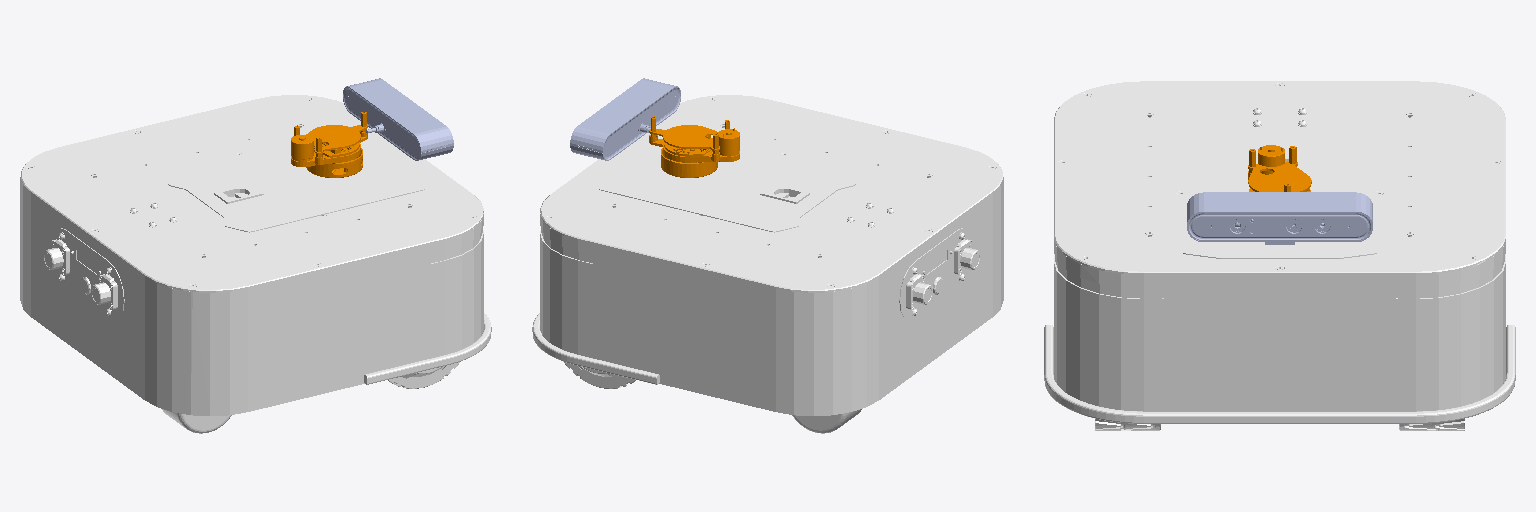
URDF robot description (tracer_mini):
<?xml version="1.0" encoding="utf-8"?>
<!-- This URDF was automatically created by SolidWorks to URDF Exporter! Originally created by [author] ([email redacted]) 
     Commit Version: 1.6.0-4-g7f85cfe  Build Version: 1.6.7995.38578
     For more information, please see http://wiki.ros.org/sw_urdf_exporter -->
<robot
  name="tracer_mini">
  <link
    name="base_link">
    <inertial>
      <origin
        xyz="0.0159871268556407 1.58872275333177E-05 -0.0309422377248268"
        rpy="0 0 0" />
      <mass
        value="24.3948952632956" />
      <inertia
        ixx="0.330322675681357"
        ixy="-8.93178579768822E-06"
        ixz="0.010552102579657"
        iyy="0.327495768676369"
        iyz="1.4143030767649E-06"
        izz="0.614434971559817" />
    </inertial>
    <visual>
      <origin
        xyz="0 0 0"
        rpy="0 0 0" />
      <geometry>
        <mesh
          filename="package://tracer_mini/meshes/base_link.STL" />
      </geometry>
      <material
        name="">
        <color
          rgba="1 1 1 1" />
      </material>
    </visual>
    <collision>
      <origin
        xyz="0 0 0"
        rpy="0 0 0" />
      <geometry>
        <mesh
          filename="package://tracer_mini/meshes/base_link.STL" />
      </geometry>
    </collision>
  </link>
  <link
    name="fl_Link">
    <inertial>
      <origin
        xyz="-0.11068 0.066655 0.10537"
        rpy="0 0 0" />
      <mass
        value="17.416" />
      <inertia
        ixx="0.24331"
        ixy="0.010574"
        ixz="8.9424E-06"
        iyy="0.43808"
        iyz="-1.4143E-06"
        izz="0.2374" />
    </inertial>
    <visual>
      <origin
        xyz="0 0 0"
        rpy="0 0 0" />
      <geometry>
        <mesh
          filename="package://tracer_mini/meshes/fl_Link.STL" />
      </geometry>
      <material
        name="">
        <color
          rgba="1 1 1 1" />
      </material>
    </visual>
    <collision>
      <origin
        xyz="0 0 0"
        rpy="0 0 0" />
      <geometry>
        <mesh
          filename="package://tracer_mini/meshes/fl_Link.STL" />
      </geometry>
    </collision>
  </link>
  <joint
    name="fl_joint"
    type="continuous">
    <origin
      xyz="0.12914 0.1054 -0.1275"
      rpy="1.5708 0 0" />
    <parent
      link="base_link" />
    <child
      link="fl_Link" />
    <axis
      xyz="0 0 1" />
  </joint>
  <link
    name="fr_Link">
    <inertial>
      <origin
        xyz="-0.11068 0.066655 -0.10543"
        rpy="0 0 0" />
      <mass
        value="17.416" />
      <inertia
        ixx="0.24331"
        ixy="0.010574"
        ixz="8.9424E-06"
        iyy="0.43808"
        iyz="-1.4143E-06"
        izz="0.2374" />
    </inertial>
    <visual>
      <origin
        xyz="0 0 0"
        rpy="0 0 0" />
      <geometry>
        <mesh
          filename="package://tracer_mini/meshes/fr_Link.STL" />
      </geometry>
      <material
        name="">
        <color
          rgba="1 1 1 1" />
      </material>
    </visual>
    <collision>
      <origin
        xyz="0 0 0"
        rpy="0 0 0" />
      <geometry>
        <mesh
          filename="package://tracer_mini/meshes/fr_Link.STL" />
      </geometry>
    </collision>
  </link>
  <joint
    name="fr_joint"
    type="continuous">
    <origin
      xyz="0.12914 -0.1054 -0.1275"
      rpy="1.5708 0 0" />
    <parent
      link="base_link" />
    <child
      link="fr_Link" />
    <axis
      xyz="0 0 -1" />
  </joint>
  <link
    name="rr_Link">
    <inertial>
      <origin
        xyz="0.14232 0.089655 -0.12503"
        rpy="0 0 0" />
      <mass
        value="17.416" />
      <inertia
        ixx="0.24331"
        ixy="0.010574"
        ixz="8.9424E-06"
        iyy="0.43808"
        iyz="-1.4143E-06"
        izz="0.2374" />
    </inertial>
    <visual>
      <origin
        xyz="0 0 0"
        rpy="0 0 0" />
      <geometry>
        <mesh
          filename="package://tracer_mini/meshes/rr_Link.STL" />
      </geometry>
      <material
        name="">
        <color
          rgba="1 1 1 1" />
      </material>
    </visual>
    <collision>
      <origin
        xyz="0 0 0"
        rpy="0 0 0" />
      <geometry>
        <mesh
          filename="package://tracer_mini/meshes/rr_Link.STL" />
      </geometry>
    </collision>
  </link>
  <joint
    name="rr_joint"
    type="continuous">
    <origin
      xyz="-0.12386 -0.125 -0.1505"
      rpy="1.5708 0 0" />
    <parent
      link="base_link" />
    <child
      link="rr_Link" />
    <axis
      xyz="0 0 1" />
  </joint>
  <link
    name="rl_Link">
    <inertial>
      <origin
        xyz="0.14232 0.089655 0.12497"
        rpy="0 0 0" />
      <mass
        value="17.416" />
      <inertia
        ixx="0.24331"
        ixy="0.010574"
        ixz="8.9424E-06"
        iyy="0.43808"
        iyz="-1.4143E-06"
        izz="0.2374" />
    </inertial>
    <visual>
      <origin
        xyz="0 0 0"
        rpy="0 0 0" />
      <geometry>
        <mesh
          filename="package://tracer_mini/meshes/rl_Link.STL" />
      </geometry>
      <material
        name="">
        <color
          rgba="1 1 1 1" />
      </material>
    </visual>
    <collision>
      <origin
        xyz="0 0 0"
        rpy="0 0 0" />
      <geometry>
        <mesh
          filename="package://tracer_mini/meshes/rl_Link.STL" />
      </geometry>
    </collision>
  </link>
  <joint
    name="rl_joint"
    type="continuous">
    <origin
      xyz="-0.12386 0.125 -0.1505"
      rpy="1.5708 0 0" />
    <parent
      link="base_link" />
    <child
      link="rl_Link" />
    <axis
      xyz="0 0 1" />
  </joint>
  <link
    name="laser_Link">
    <inertial>
      <origin
        xyz="0.15388 0.025965 -0.00099778"
        rpy="0 0 0" />
      <mass
        value="8.4173" />
      <inertia
        ixx="0.64711"
        ixy="0.071694"
        ixz="1.2977E-08"
        iyy="0.25316"
        iyz="1.0551E-09"
        izz="0.89983" />
    </inertial>
    <visual>
      <origin
        xyz="0 0 0"
        rpy="0 0 0" />
      <geometry>
        <mesh
          filename="package://tracer_mini/meshes/laser_Link.STL" />
      </geometry>
      <material
        name="">
        <color
          rgba="1 0.6 0 1" />
      </material>
    </visual>
    <collision>
      <origin
        xyz="0 0 0"
        rpy="0 0 0" />
      <geometry>
        <mesh
          filename="package://tracer_mini/meshes/laser_Link.STL" />
      </geometry>
    </collision>
  </link>
  <joint
    name="laser_joint"
    type="fixed">
    <origin
      xyz="0.11454 0.0015587 0.015681"
      rpy="0 0 0" />
    <parent
      link="base_link" />
    <child
      link="laser_Link" />
    <axis
      xyz="0 0 0" />
  </joint>
  <link
    name="camera_Link">
    <inertial>
      <origin
        xyz="-0.01921 0.00063228 -0.00029809"
        rpy="0 0 0" />
      <mass
        value="0.18466" />
      <inertia
        ixx="0.00039611"
        ixy="4.5151E-08"
        ixz="-7.4095E-08"
        iyy="3.5713E-05"
        iyz="1.8221E-09"
        izz="0.00040522" />
    </inertial>
    <visual>
      <origin
        xyz="0 0 0"
        rpy="0 0 0" />
      <geometry>
        <mesh
          filename="package://tracer_mini/meshes/camera_Link.STL" />
      </geometry>
      <material
        name="">
        <color
          rgba="0.79216 0.81961 0.93333 1" />
      </material>
    </visual>
    <collision>
      <origin
        xyz="0 0 0"
        rpy="0 0 0" />
      <geometry>
        <mesh
          filename="package://tracer_mini/meshes/camera_Link.STL" />
      </geometry>
    </collision>
  </link>
  <joint
    name="camera_joint"
    type="fixed">
    <origin
      xyz="0.21144 -0.00064499 0.043"
      rpy="0 0 0" />
    <parent
      link="base_link" />
    <child
      link="camera_Link" />
    <axis
      xyz="0 0 0" />
  </joint>
</robot>

--- Facts derived from the render (not from the file) ---
3 views of the same robot in one strip: view 1: azimuth 30°, elevation 25°; view 2: azimuth 150°, elevation 25°; view 3: azimuth 270°, elevation 25° (orthographic).
Model tracer_mini with 7 links and 6 joints (4 continuous, 2 fixed), rooted at base_link, posed every joint at zero.
Links seen in each view (by area): view 1: rr_Link, rl_Link, fl_Link, camera_Link, laser_Link, fr_Link; view 2: rr_Link, fr_Link, fl_Link, camera_Link, laser_Link, rl_Link; view 3: rr_Link, fl_Link, fr_Link, camera_Link, rl_Link, laser_Link.
Boxes of the visible links, x1,y1,x2,y2 form: rr_Link: [20, 95, 490, 430]; rl_Link: [20, 125, 491, 433]; fl_Link: [20, 124, 406, 403]; camera_Link: [343, 78, 453, 160]; laser_Link: [291, 112, 367, 177]; fr_Link: [20, 148, 442, 401]; rr_Link: [533, 95, 1003, 398]; fr_Link: [532, 97, 1000, 429]; fl_Link: [533, 100, 992, 432]; camera_Link: [570, 78, 680, 160]; laser_Link: [649, 116, 739, 177]; rl_Link: [573, 126, 1003, 433]; rr_Link: [1044, 81, 1513, 430]; fl_Link: [1100, 84, 1514, 429]; fr_Link: [1052, 85, 1515, 430]; camera_Link: [1187, 192, 1372, 244]; rl_Link: [1044, 94, 1497, 430]; laser_Link: [1248, 145, 1311, 191].
Size in the robot's own frame: 0.4275 by 0.416 by 0.246 metres.
Meshes: 7 distinct files referenced, 6 mesh visuals loaded (6 binary STL); not drawn: 1 (reference not matched to a file when rendering).